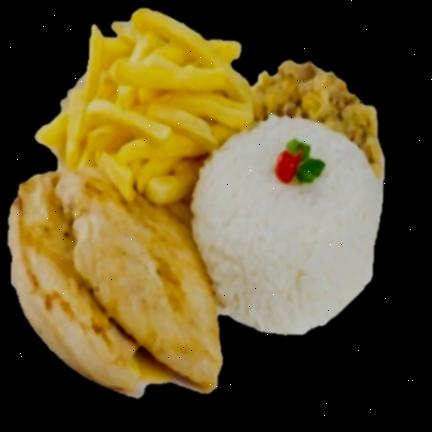chicken: (11, 171, 220, 402), (10, 168, 222, 391)
potato: (31, 9, 258, 212), (40, 9, 254, 204)
rice: (192, 115, 383, 334), (191, 114, 377, 336)
tomato: (275, 150, 301, 182)
